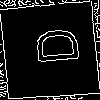D: (24, 25, 79, 67)
